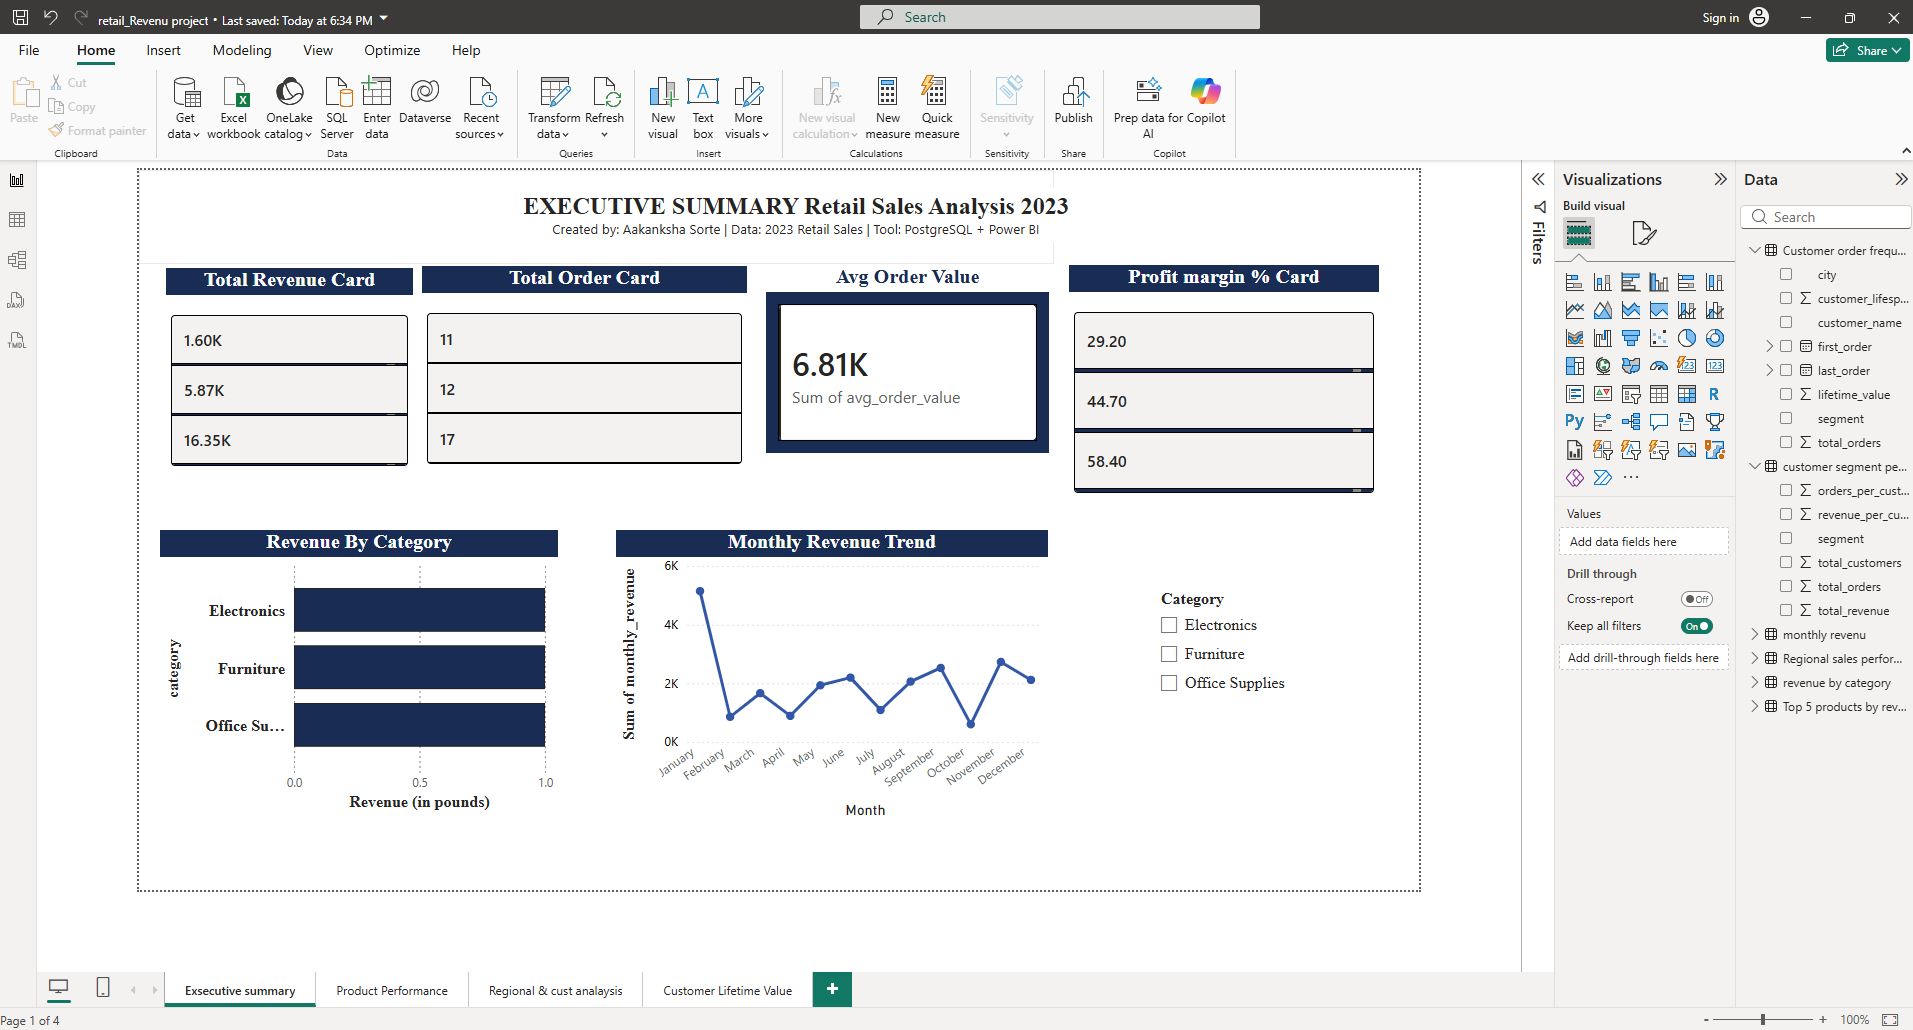

The dashboard page shown, as its layout file describes it:
{"tool":"powerbi","page":{"name":"Exsecutive summary","canvas":[1280,720],"ordinal":0},"visuals":[{"type":"cardVisual","title":"Total Revenue Card","fields":{"Rows":["revenue by category.total_revenue"]},"box":[26.9,97.6,247.2,223],"z":0},{"type":"textbox","box":[0,0,915.3,94.3],"z":1000},{"type":"textbox","box":[34,17.5,1246,54.5],"z":2000},{"type":"cardVisual","title":"Total Order Card","fields":{"Rows":["revenue by category.total_orders"]},"box":[283.2,96.1,325.2,225],"z":3000},{"type":"cardVisual","title":"Avg Order Value","fields":{"Data":["Sum(monthly revenu.avg_order_value)"]},"box":[621.6,94.7,293.7,193.5],"z":4000},{"type":"cardVisual","title":"Profit margin % Card","fields":{"Rows":["revenue by category.profit_margin_pct"]},"box":[930.4,94.7,310.1,253.9],"z":5000},{"type":"clusteredBarChart","title":"Revenue By Category","fields":{"Category":["revenue by category.category"],"Y":["CountNonNull(revenue by category.total_revenue)"]},"box":[20.6,360,398.5,284.8],"z":6000},{"type":"lineChart","title":"Monthly Revenue Trend","fields":{"Category":["monthly revenu.month.Variation.Date Hierarchy.Year","monthly revenu.month.Variation.Date Hierarchy.Quarter","monthly revenu.month.Variation.Date Hierarchy.Month","monthly revenu.month.Variation.Date Hierarchy.Day"],"Y":["Sum(monthly revenu.monthly_revenue)"]},"box":[477.3,360,431.6,292.8],"z":7000},{"type":"slicer","fields":{"Values":["revenue by category.category"]},"box":[1009.3,414.6,151.3,122.7],"z":8000}]}

Visuals, with their boxes on the page's 1280x720 design canvas (x1, y1, x2, y2). These are canvas units, not pixel positions in the 1913x1030 screenshot, which may show the page scaled, cropped or inside an application window:
"Total Revenue Card" cardVisual: BBox(27, 98, 274, 321)
textbox: BBox(0, 0, 915, 94)
textbox: BBox(34, 18, 1280, 72)
"Total Order Card" cardVisual: BBox(283, 96, 608, 321)
"Avg Order Value" cardVisual: BBox(622, 95, 915, 288)
"Profit margin % Card" cardVisual: BBox(930, 95, 1240, 349)
"Revenue By Category" clusteredBarChart: BBox(21, 360, 419, 645)
"Monthly Revenue Trend" lineChart: BBox(477, 360, 909, 653)
slicer - revenue by category.category: BBox(1009, 415, 1161, 537)
